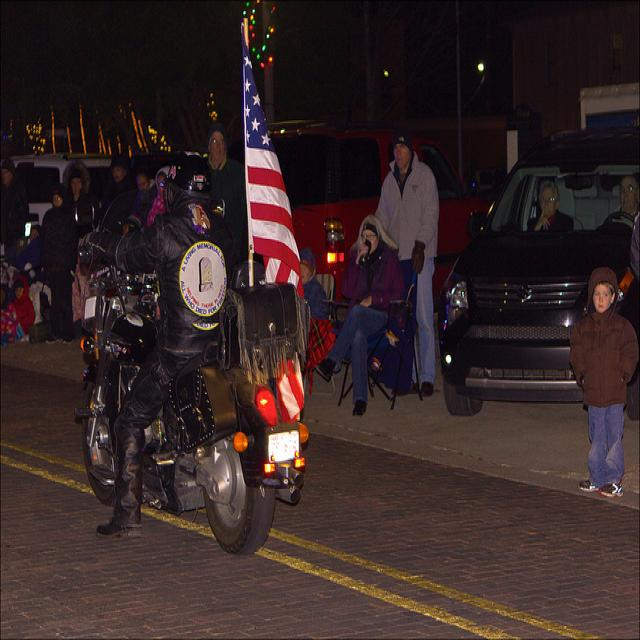motor: (73, 237, 309, 555)
